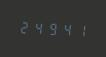four: (32, 18, 45, 36), (60, 20, 73, 38)
nine: (46, 19, 59, 37)
one: (74, 21, 87, 38)
two: (18, 18, 31, 35)
